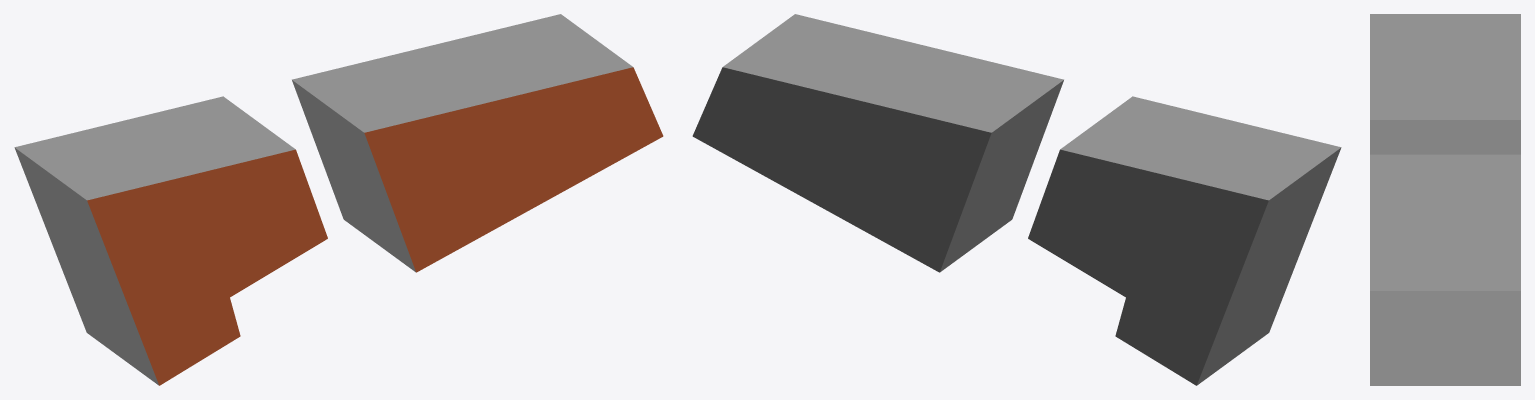
Rendered from construction_1839_assumed_A_Casa_h6m.obj.
3 renders of one model, left to right at view 1: azimuth 30°, elevation 25°; view 2: azimuth 150°, elevation 25°; view 3: azimuth 270°, elevation 25°, orthographic. The views are drawn at different scales.
Parts seen in each view (by area): view 1: construction_1839_assumed_A_Casa; view 2: construction_1839_assumed_A_Casa; view 3: construction_1839_assumed_A_Casa.
Part boxes in pixels (x1=…): construction_1839_assumed_A_Casa: x1=14, y1=14, x2=663, y2=385; construction_1839_assumed_A_Casa: x1=692, y1=14, x2=1341, y2=385; construction_1839_assumed_A_Casa: x1=1370, y1=14, x2=1520, y2=385.
Bounding box in the file's own units: 27.49 × 9.26 × 6.
